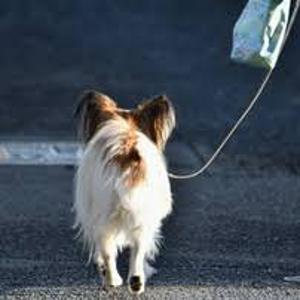yell: (71, 89, 176, 295)
